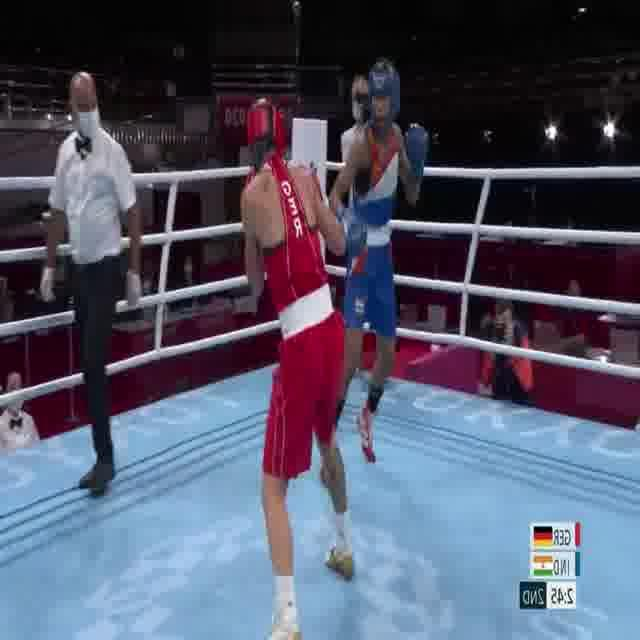blue-player: (317, 55, 431, 489)
red-player: (238, 91, 357, 640)
referee: (38, 66, 146, 502)
